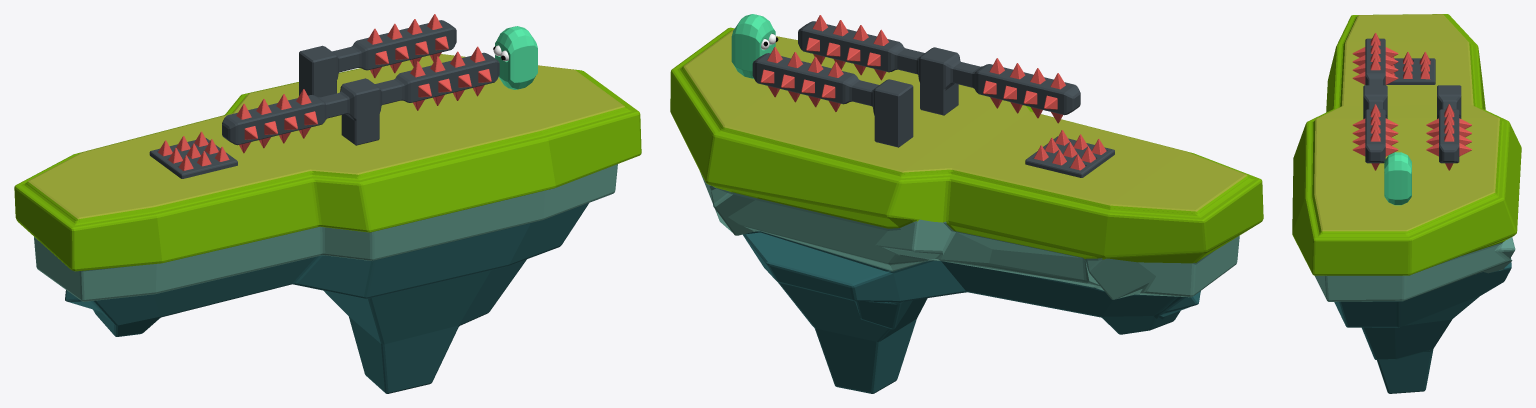
Rendered from TestRunv2.fbx.
3 renders of one model, left to right at view 1: azimuth 30°, elevation 25°; view 2: azimuth 150°, elevation 25°; view 3: azimuth 270°, elevation 25°, orthographic. The views are drawn at different scales.
Parts seen in each view (by area): view 1: Cube, Cube.009, Cube.003, Cube.006, Cube.011, Cube.010, Cube.001, Cube.002, Cube.005, Cube.004; view 2: Cube, Cube.009, Cube.003, Cube.006, Cube.011, Cube.010, Cube.001, Cube.002, Cube.005, Cube.004; view 3: Cube, Cube.009, Cube.010, Cube.003, Cube.006, Cube.001, Cube.011, Cube.004, Cube.002, Cube.005.
Boxes of the visible parts, x1,y1,x2,y2 form: Cube: [14, 54, 641, 393]; Cube.009: [222, 52, 499, 145]; Cube.003: [299, 20, 456, 97]; Cube.006: [495, 26, 537, 89]; Cube.011: [236, 46, 485, 153]; Cube.010: [244, 69, 491, 139]; Cube.001: [149, 138, 237, 178]; Cube.002: [158, 131, 229, 170]; Cube.005: [367, 14, 442, 77]; Cube.004: [375, 36, 448, 64]; Cube: [670, 27, 1263, 393]; Cube.009: [798, 21, 1080, 115]; Cube.003: [752, 53, 913, 147]; Cube.006: [731, 14, 775, 78]; Cube.011: [812, 15, 1065, 123]; Cube.010: [806, 37, 1057, 109]; Cube.001: [1025, 136, 1114, 177]; Cube.002: [1034, 130, 1106, 170]; Cube.005: [767, 47, 843, 111]; Cube.004: [760, 69, 835, 98]; Cube: [1292, 14, 1521, 393]; Cube.009: [1363, 38, 1387, 163]; Cube.010: [1352, 47, 1398, 156]; Cube.003: [1437, 85, 1461, 163]; Cube.006: [1384, 152, 1411, 205]; Cube.001: [1387, 58, 1435, 84]; Cube.011: [1370, 33, 1380, 170]; Cube.004: [1426, 118, 1471, 156]; Cube.002: [1391, 51, 1430, 79]; Cube.005: [1444, 104, 1454, 170].
Size of the model in its own units: 831 by 1933 by 1125.
